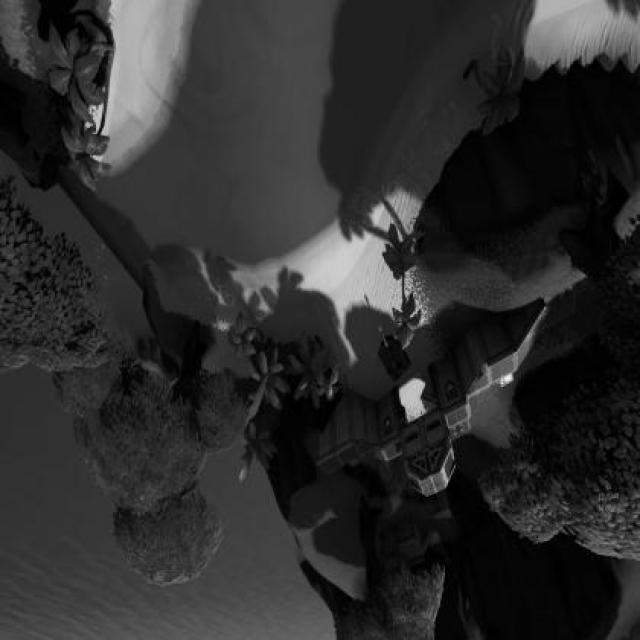tank: (376, 323, 410, 384)
